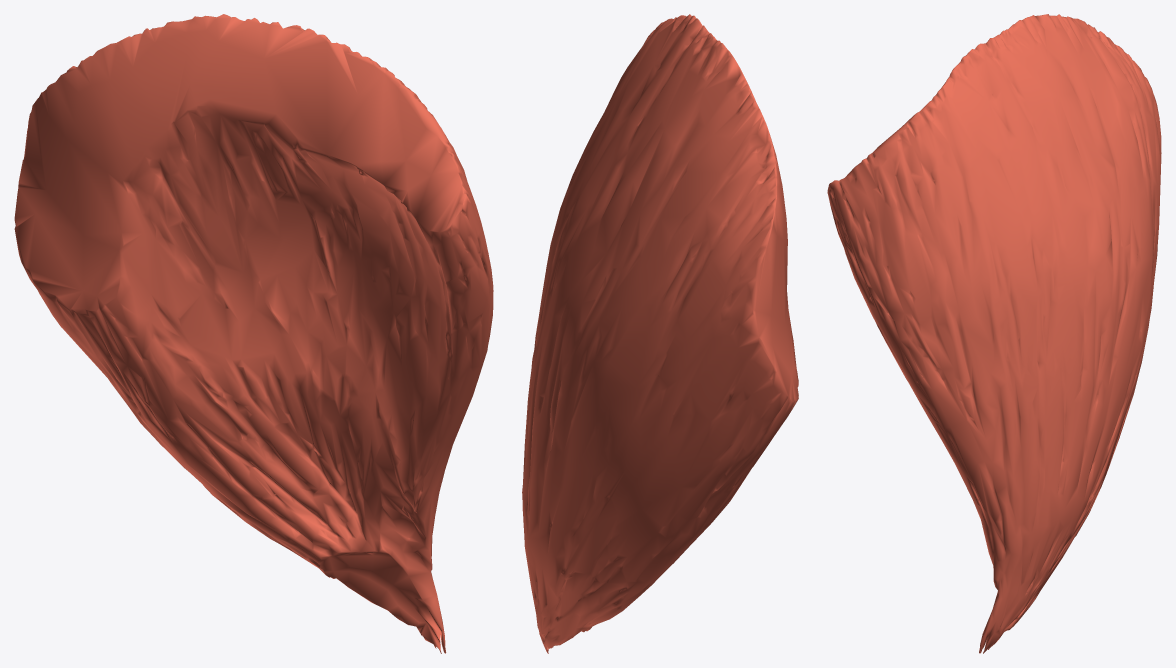
Rendered from gluteus-medius.glb.
3 renders of one model, left to right at view 1: azimuth 30°, elevation 25°; view 2: azimuth 150°, elevation 25°; view 3: azimuth 270°, elevation 25°, orthographic. The views are drawn at different scales.
Visible parts, largest first — view 1: Gluteus medius muscle.l; view 2: Gluteus medius muscle.l; view 3: Gluteus medius muscle.l.
Boxes of the visible parts, left/top/right/bottom form: Gluteus medius muscle.l: left=14, top=14, right=493, bottom=653; Gluteus medius muscle.l: left=522, top=14, right=798, bottom=653; Gluteus medius muscle.l: left=827, top=14, right=1161, bottom=653.
Size of the model in its own units: 0.0892 by 0.1681 by 0.0917.
